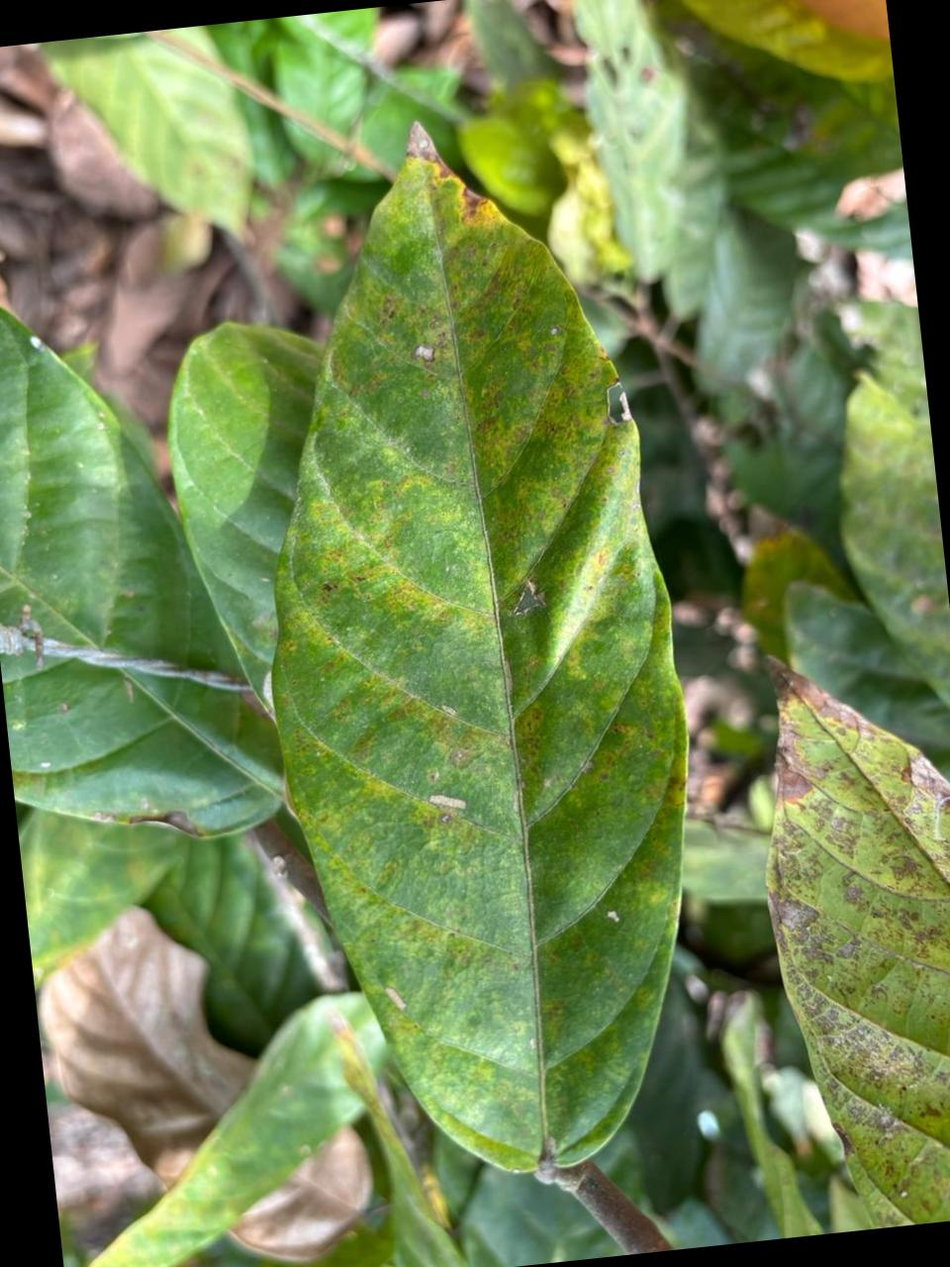Fosforo: (273, 126, 686, 1171)
